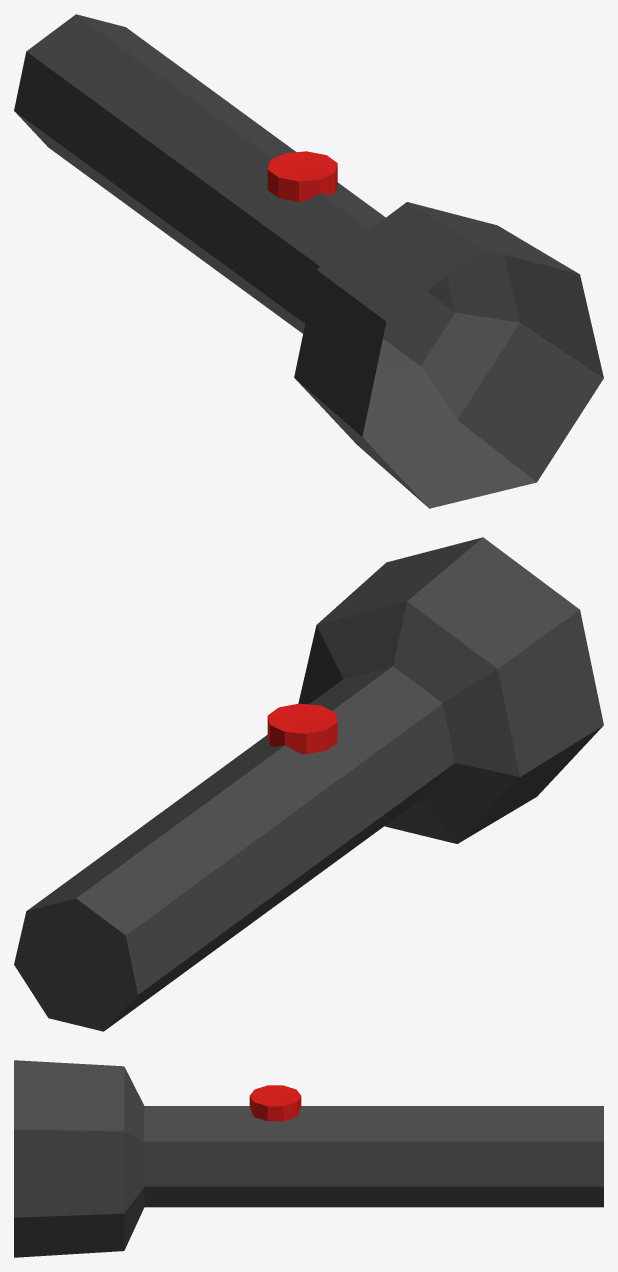
The model's file is flashlight.fbx.
3 views of the same model, one above another, from view 1: azimuth 30°, elevation 25°; view 2: azimuth 150°, elevation 25°; view 3: azimuth 270°, elevation 25° (orthographic). The views are drawn at different scales.
Visible parts, largest first — view 1: Cylinder; view 2: Cylinder; view 3: Cylinder.
Boxes of the visible parts, left/top/right/bottom form: Cylinder: left=14, top=14, right=603, bottom=508; Cylinder: left=14, top=537, right=603, bottom=1031; Cylinder: left=14, top=1060, right=603, bottom=1257.
Bounding box in the file's own units: 55.71 × 54.31 × 163.
